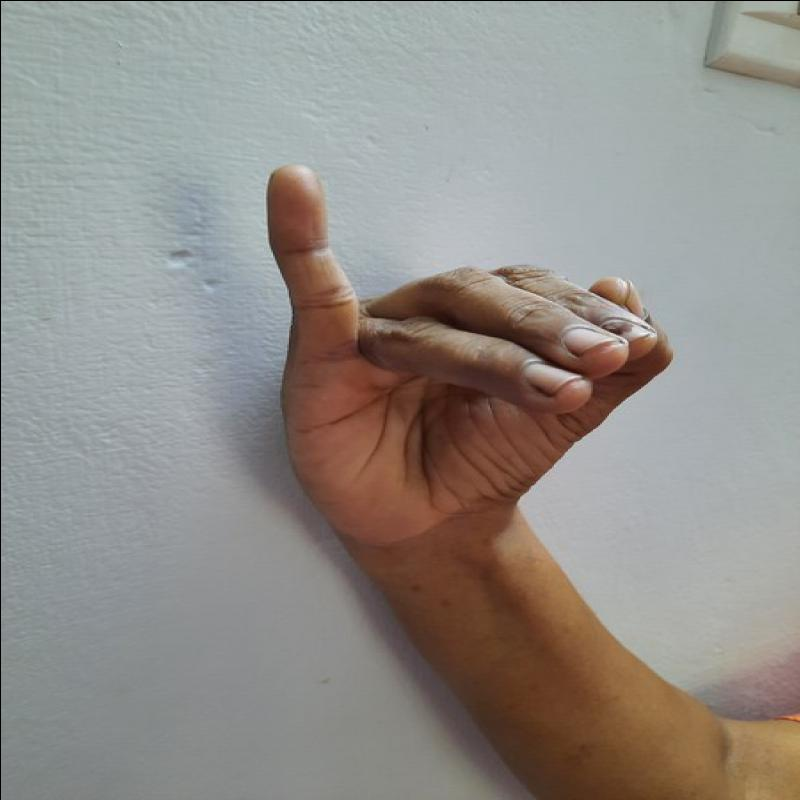Kartharee Mukham: (243, 154, 678, 557)
